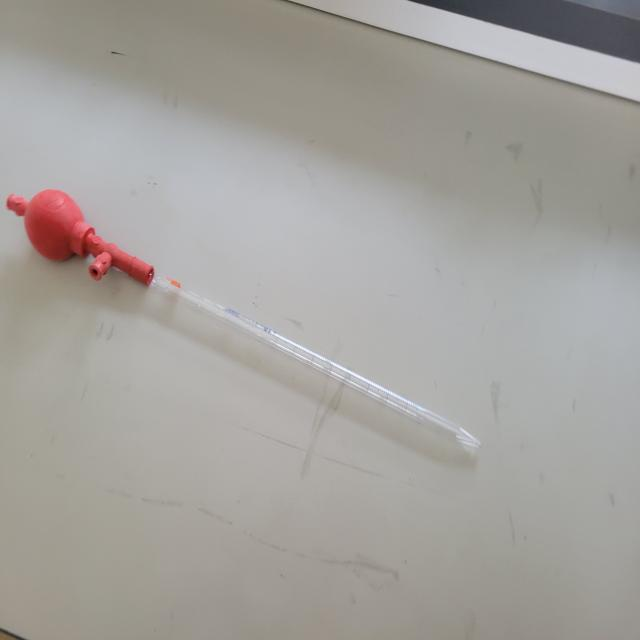Volumetric_Pipet: (7, 138, 503, 548)
